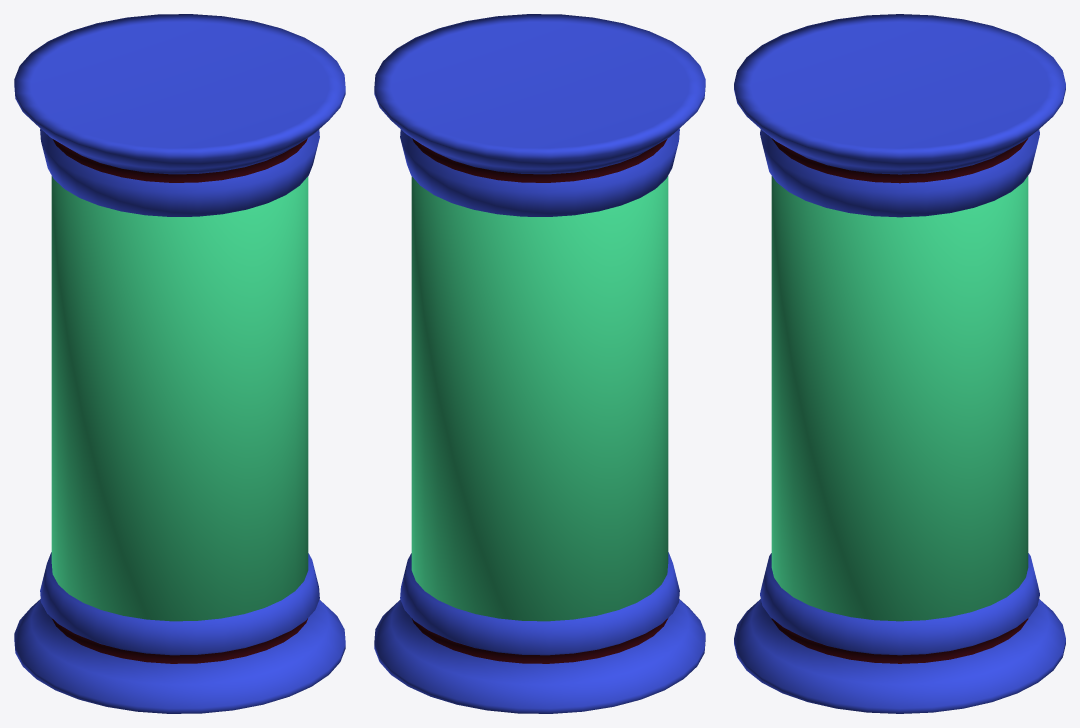
File: CEILING Not Broken.glb
The picture shows the model from 3 angles, left to right: view 1: azimuth 30°, elevation 25°; view 2: azimuth 150°, elevation 25°; view 3: azimuth 270°, elevation 25°; orthographic projection.
Parts seen in each view (by area): view 1: CYLINDER BROKEN; view 2: CYLINDER BROKEN; view 3: CYLINDER BROKEN.
Boxes of the visible parts, bbox=[...] form: CYLINDER BROKEN: bbox=[14, 14, 345, 713]; CYLINDER BROKEN: bbox=[374, 14, 705, 713]; CYLINDER BROKEN: bbox=[734, 14, 1065, 713].
Bounding box in the file's own units: 1.39 × 2.58 × 1.39.
